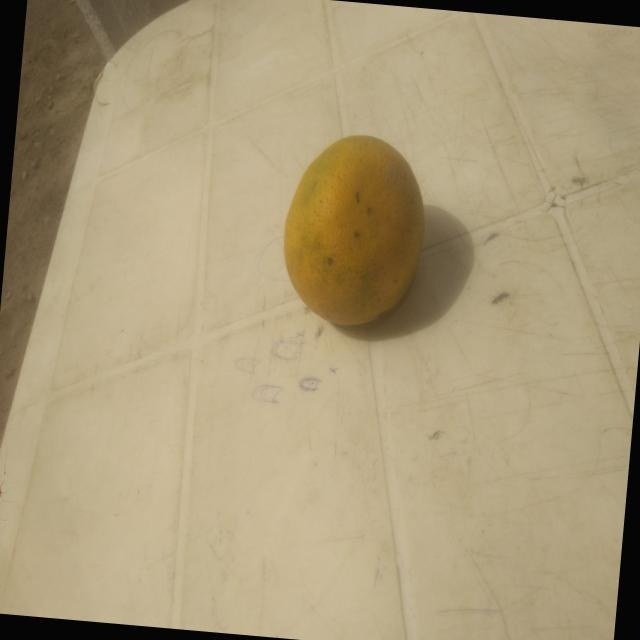agrume: (268, 129, 436, 335)
